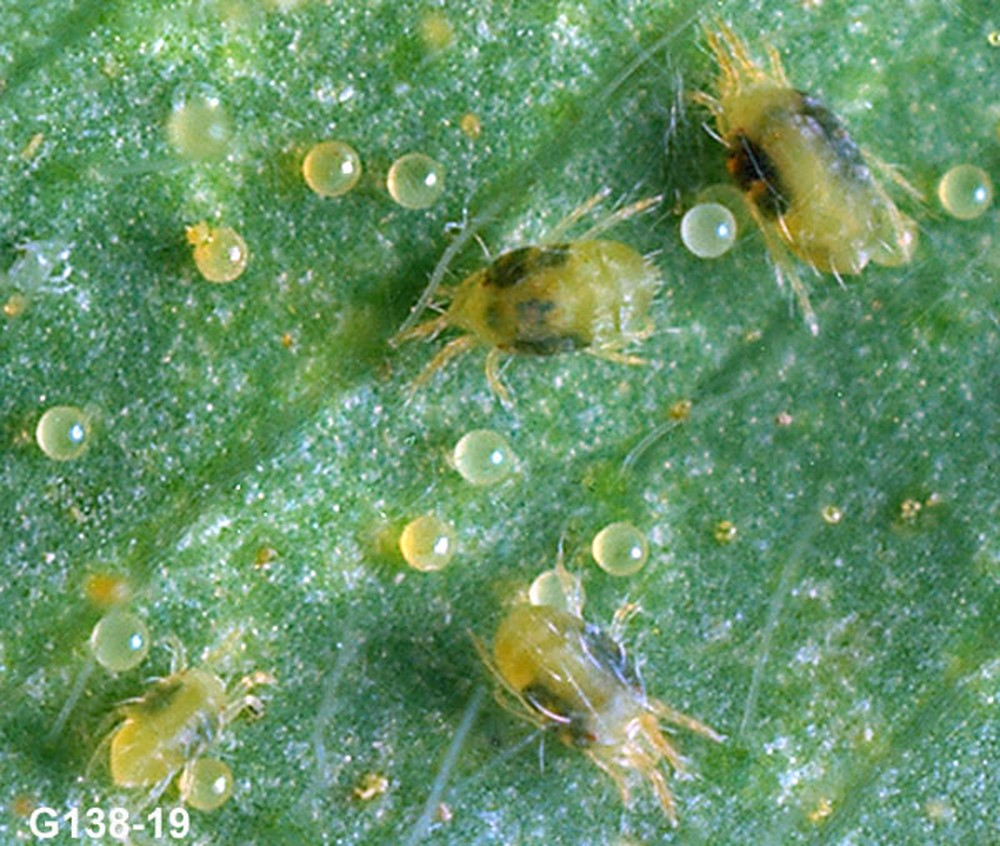Aracnido Rojo: (464, 575, 743, 828), (666, 36, 929, 304), (396, 198, 702, 393), (84, 630, 271, 780)
